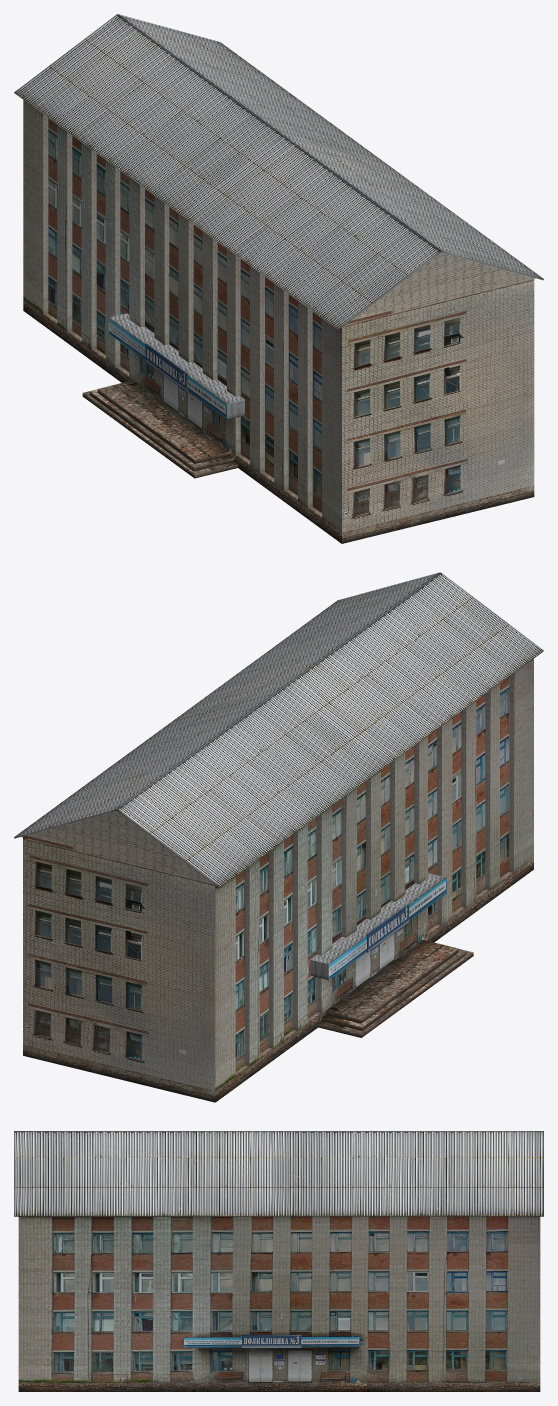
Rendered from r402_ishim_policlinika.FBX.
3 views of the same model, one above another, from view 1: azimuth 30°, elevation 25°; view 2: azimuth 150°, elevation 25°; view 3: azimuth 270°, elevation 25° (orthographic). The views are drawn at different scales.
Visible parts, largest first — view 1: r402_ishim_policlinika; view 2: r402_ishim_policlinika; view 3: r402_ishim_policlinika.
Part boxes in pixels (x1,y1,x2,y2): r402_ishim_policlinika: [14, 14, 543, 543]; r402_ishim_policlinika: [14, 572, 543, 1102]; r402_ishim_policlinika: [14, 1131, 543, 1391].
Size of the model in its own units: 1446 by 3341 by 1547.
